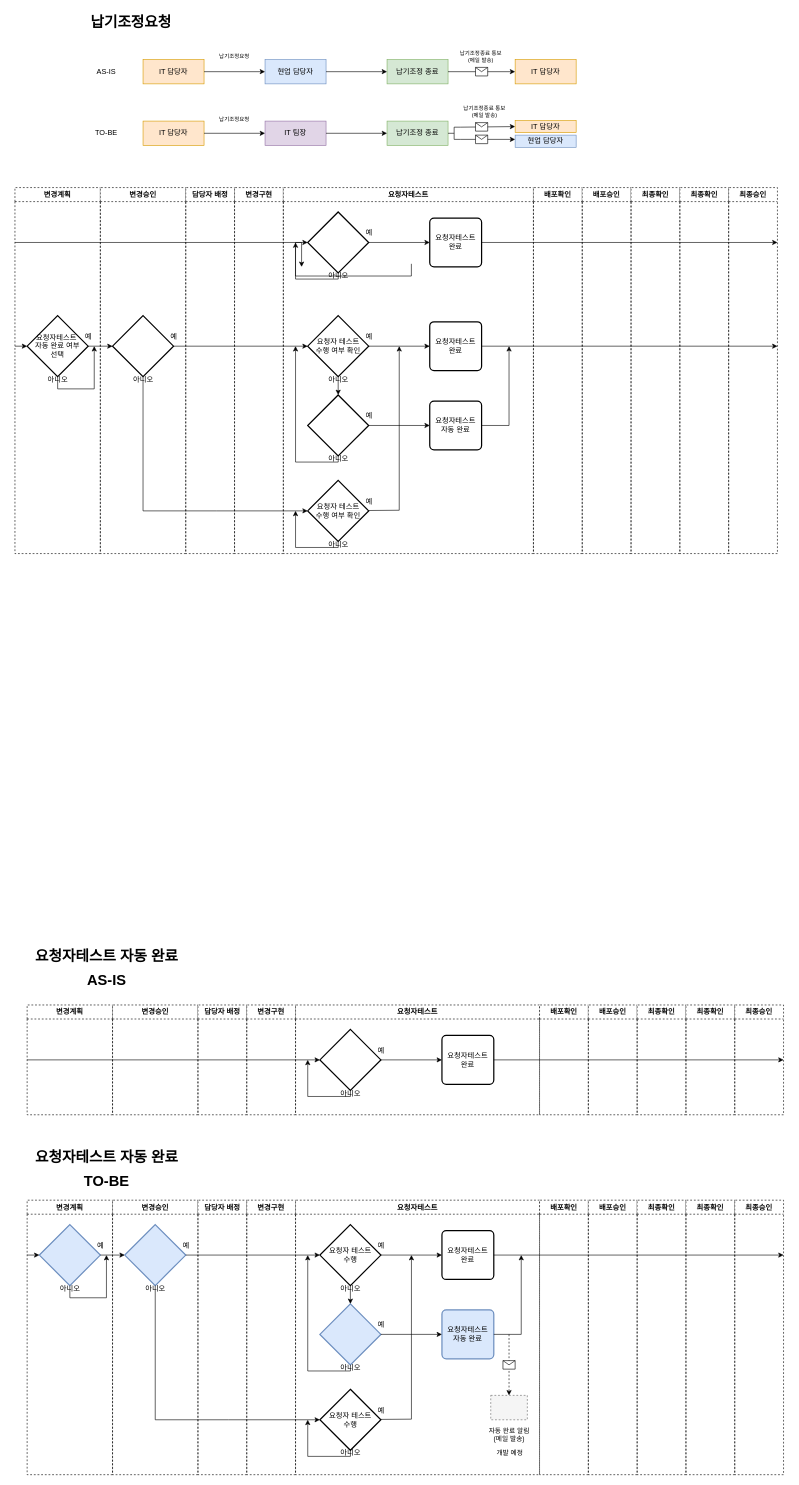
The diagram is 799 pixels wide and 1485 high, and some of its shapes have lost their labels. The box of each missing label's shape, as (x1, y1, x2, y2) in pixels:
5일 경과: (319, 1303, 381, 1365)
5일 경과 여부 확인: (307, 394, 369, 456)
요청자 테스트 미수행: (307, 211, 369, 273)
요청자테스트 수행: (319, 1028, 381, 1091)
요청자테스트 자동 완료 선택: (38, 1224, 101, 1286)
요청자테스트 자동 완료 여부 최종 선택: (112, 315, 174, 377)
요청자테스트 자동 완료 최종 선택: (124, 1224, 186, 1286)
작업자: (490, 1395, 527, 1420)
